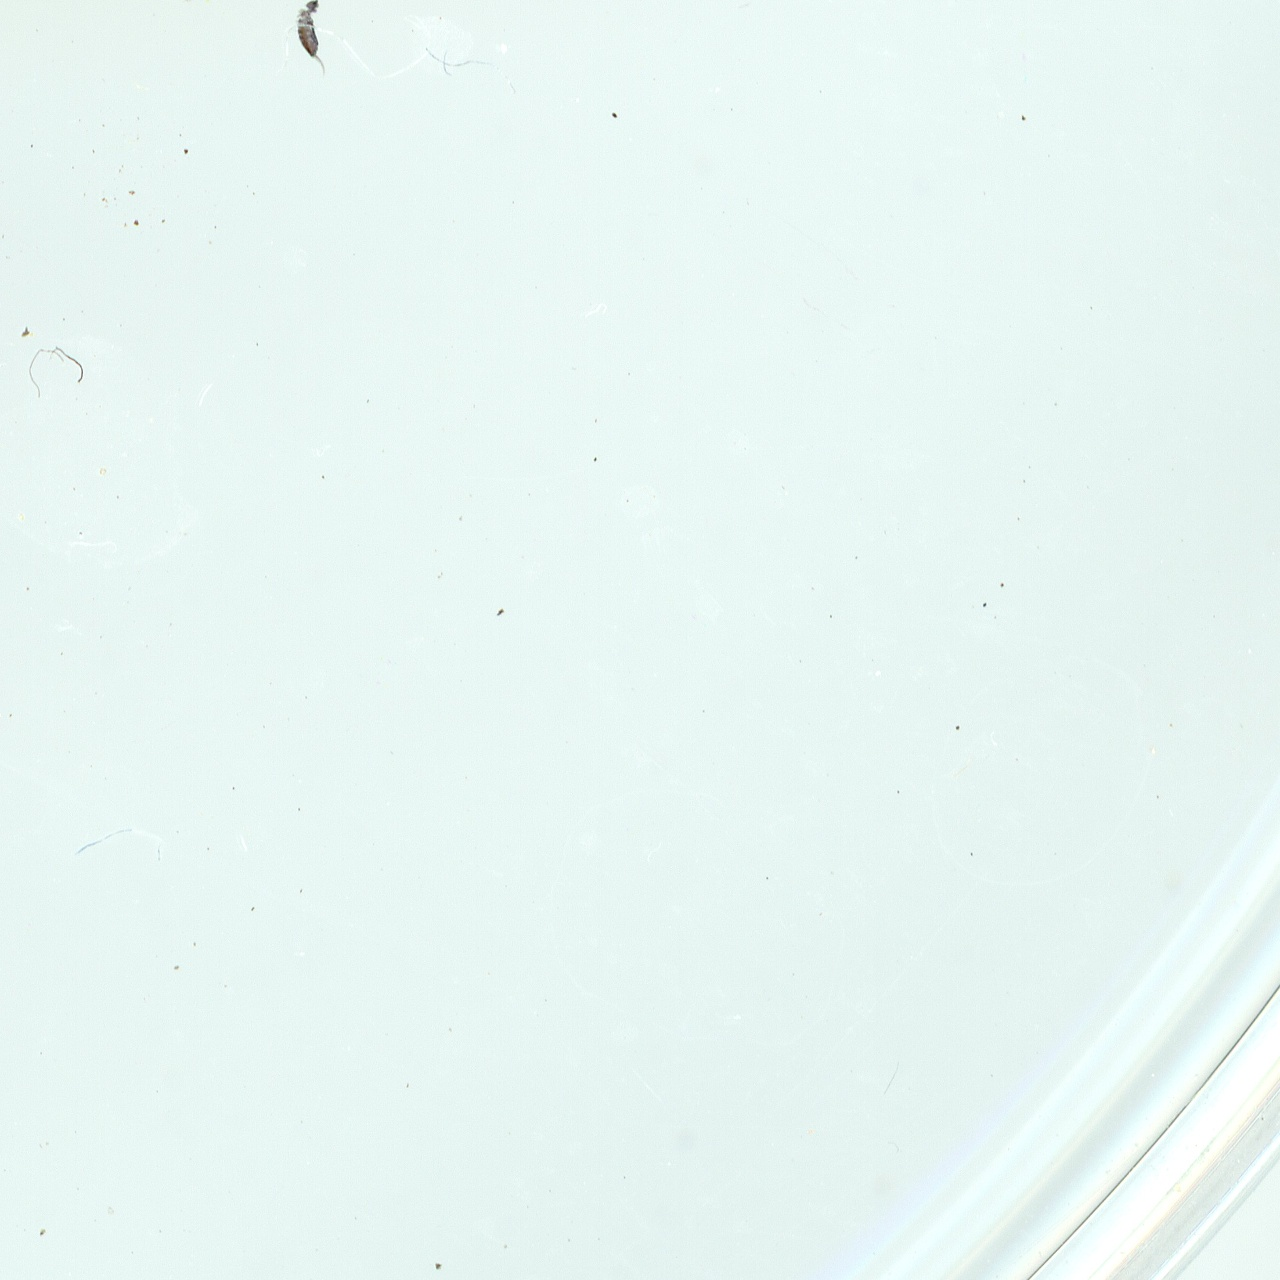arthropod: (282, 0, 346, 84)
